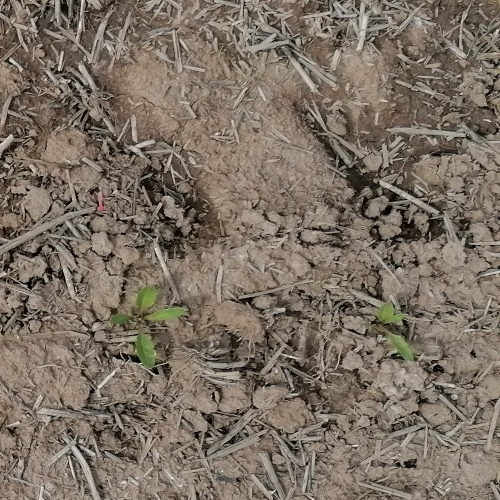beet: (109, 284, 186, 368), (378, 302, 412, 364)
